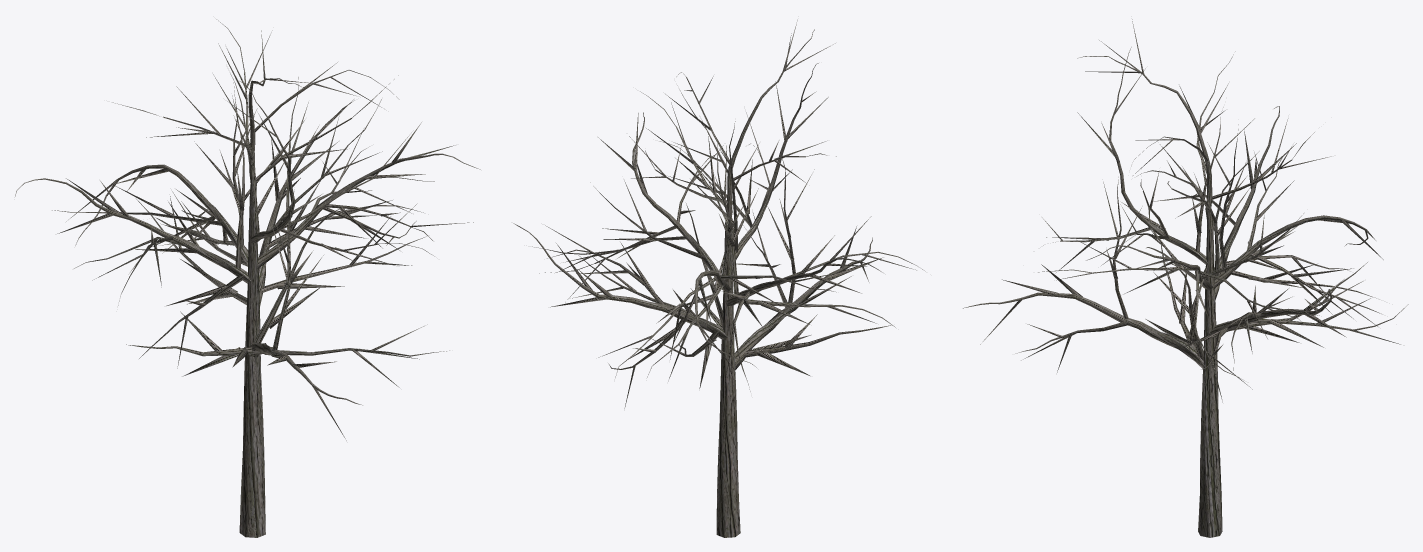
The model's file is muerto_roble_2.glb.
The picture shows the model from 3 angles, left to right: view 1: azimuth 30°, elevation 25°; view 2: azimuth 150°, elevation 25°; view 3: azimuth 270°, elevation 25°; orthographic projection. The views are drawn at different scales.
Visible parts, largest first — view 1: muerto_roble_2_ramas; view 2: muerto_roble_2_ramas; view 3: muerto_roble_2_ramas.
Boxes of the visible parts, x1,y1,x2,y2 form: muerto_roble_2_ramas: (15,19,480,537); muerto_roble_2_ramas: (513,19,925,537); muerto_roble_2_ramas: (963,19,1408,537).
Bounding box in the file's own units: 5.71 × 7.5 × 6.05.
Materials: 1 (1 with a texture image).
